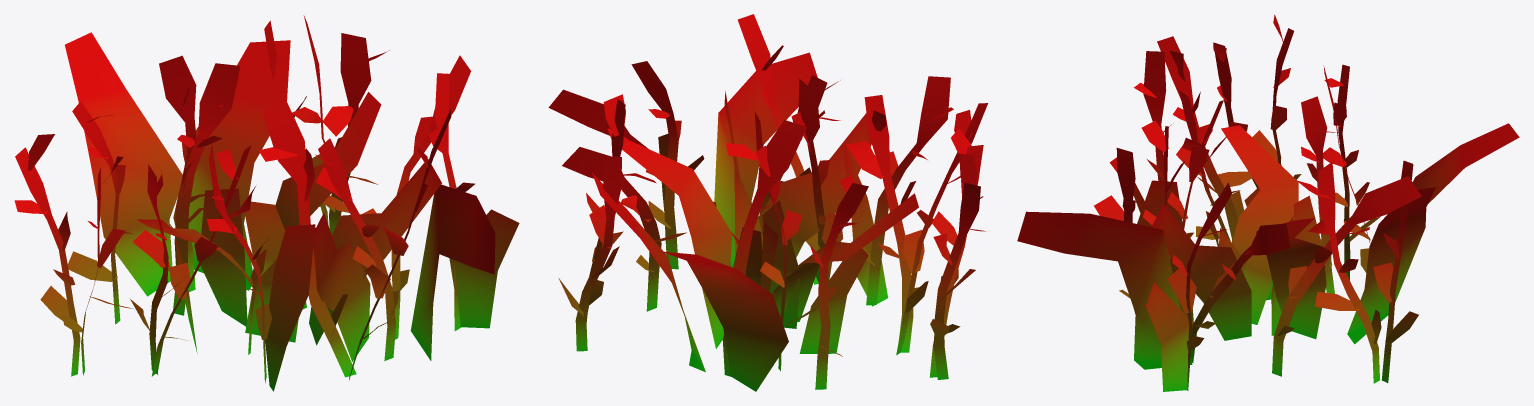
Rendered from Var5_LOD1.fbx.
The picture shows the model from 3 angles, left to right: view 1: azimuth 30°, elevation 25°; view 2: azimuth 150°, elevation 25°; view 3: azimuth 270°, elevation 25°; orthographic projection. The views are drawn at different scales.
Parts seen in each view (by area): view 1: _9563_Var5_LOD1; view 2: _9563_Var5_LOD1; view 3: _9563_Var5_LOD1.
Boxes of the visible parts, x1,y1,x2,y2 form: _9563_Var5_LOD1: (14,15,519,391); _9563_Var5_LOD1: (548,14,987,391); _9563_Var5_LOD1: (1017,14,1519,391).
Size of the model in its own units: 13.9 by 7.79 by 14.98.
